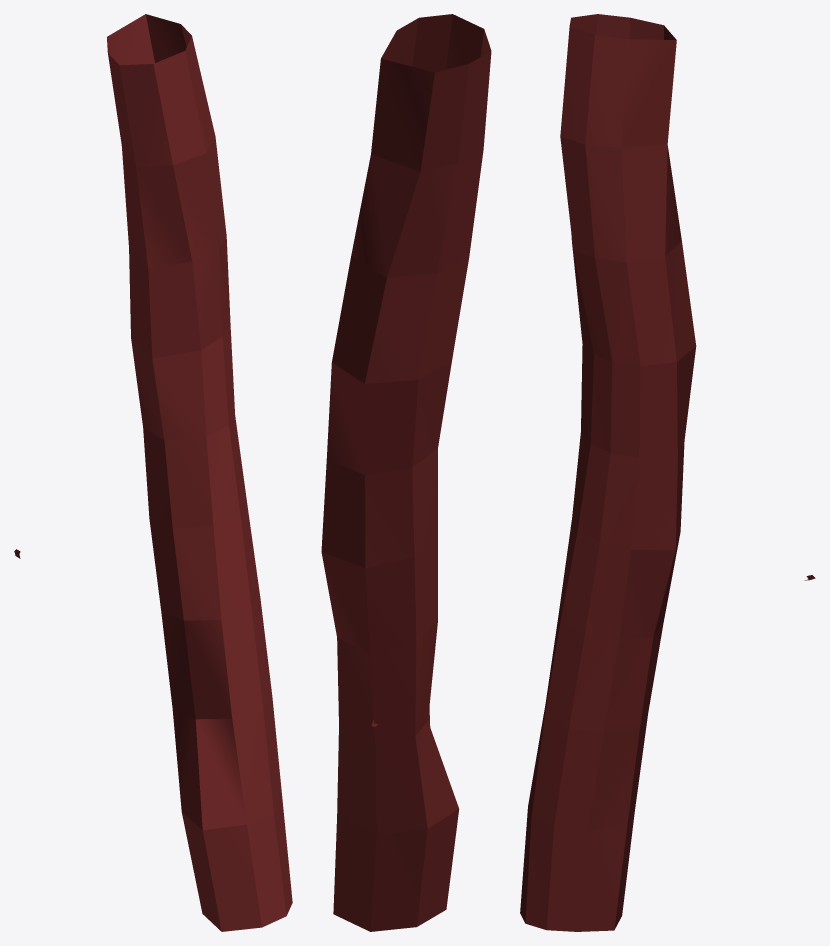
File: Aorta.FBX
3 views of the same model, side by side, from view 1: azimuth 30°, elevation 25°; view 2: azimuth 150°, elevation 25°; view 3: azimuth 270°, elevation 25° (orthographic). The views are drawn at different scales.
Parts seen in each view (by area): view 1: CS_Arterie005; view 2: CS_Arterie005; view 3: CS_Arterie005.
Part boxes in pixels (<box>): CS_Arterie005: <box>14,14,292,931</box>; CS_Arterie005: <box>321,14,491,931</box>; CS_Arterie005: <box>520,14,815,931</box>.
Bounding box in the file's own units: 2.27 × 12.63 × 3.9.
